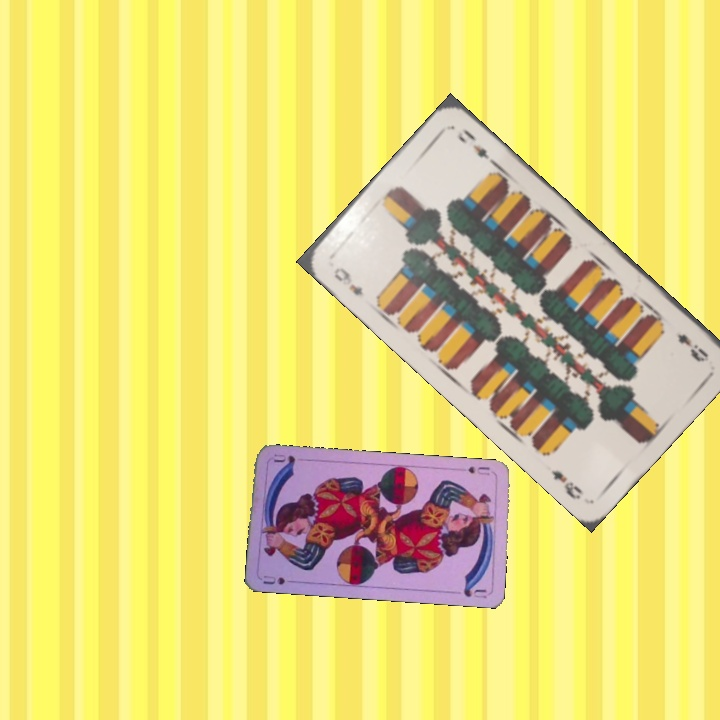E9: (673, 329, 712, 365), (329, 263, 366, 299)
SU: (464, 462, 497, 478), (259, 572, 288, 587)
